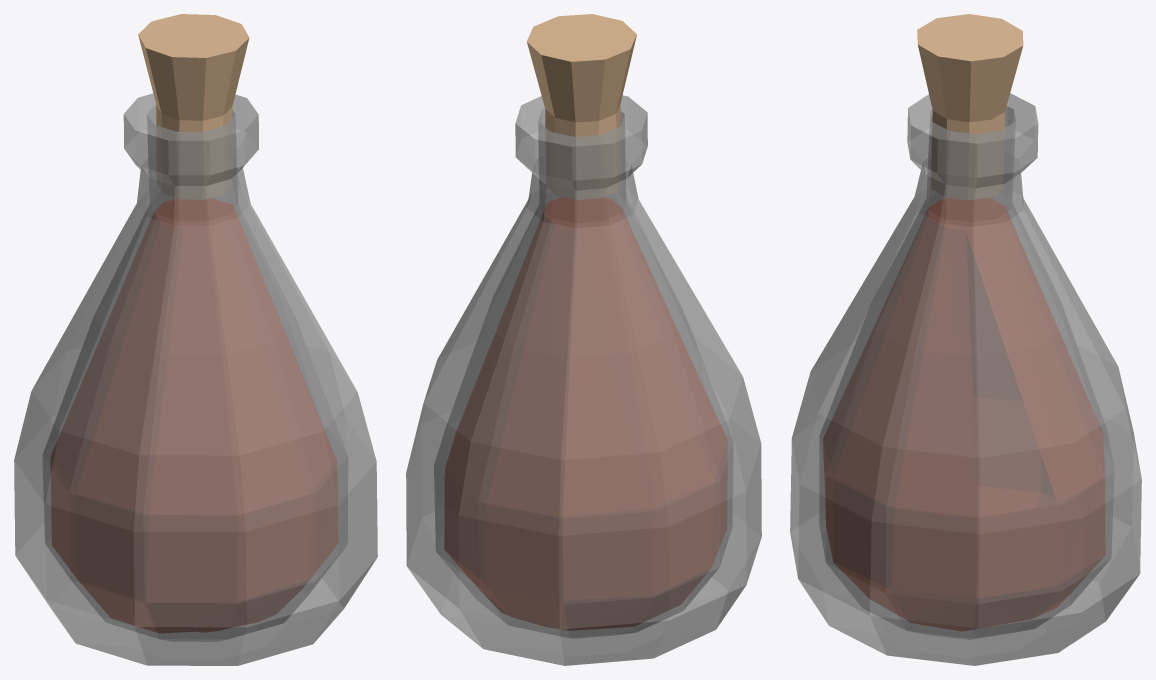
Rendered from POTION 1.fbx.
3 renders of one model, left to right at view 1: azimuth 30°, elevation 25°; view 2: azimuth 150°, elevation 25°; view 3: azimuth 270°, elevation 25°, orthographic.
Visible parts, largest first — view 1: POTION 1; view 2: POTION 1; view 3: POTION 1.
Boxes of the visible parts, <box> form: POTION 1: <box>14,14,377,665</box>; POTION 1: <box>406,14,761,665</box>; POTION 1: <box>790,14,1141,665</box>.
Bounding box in the file's own units: 13.86 × 24.9 × 13.54.
